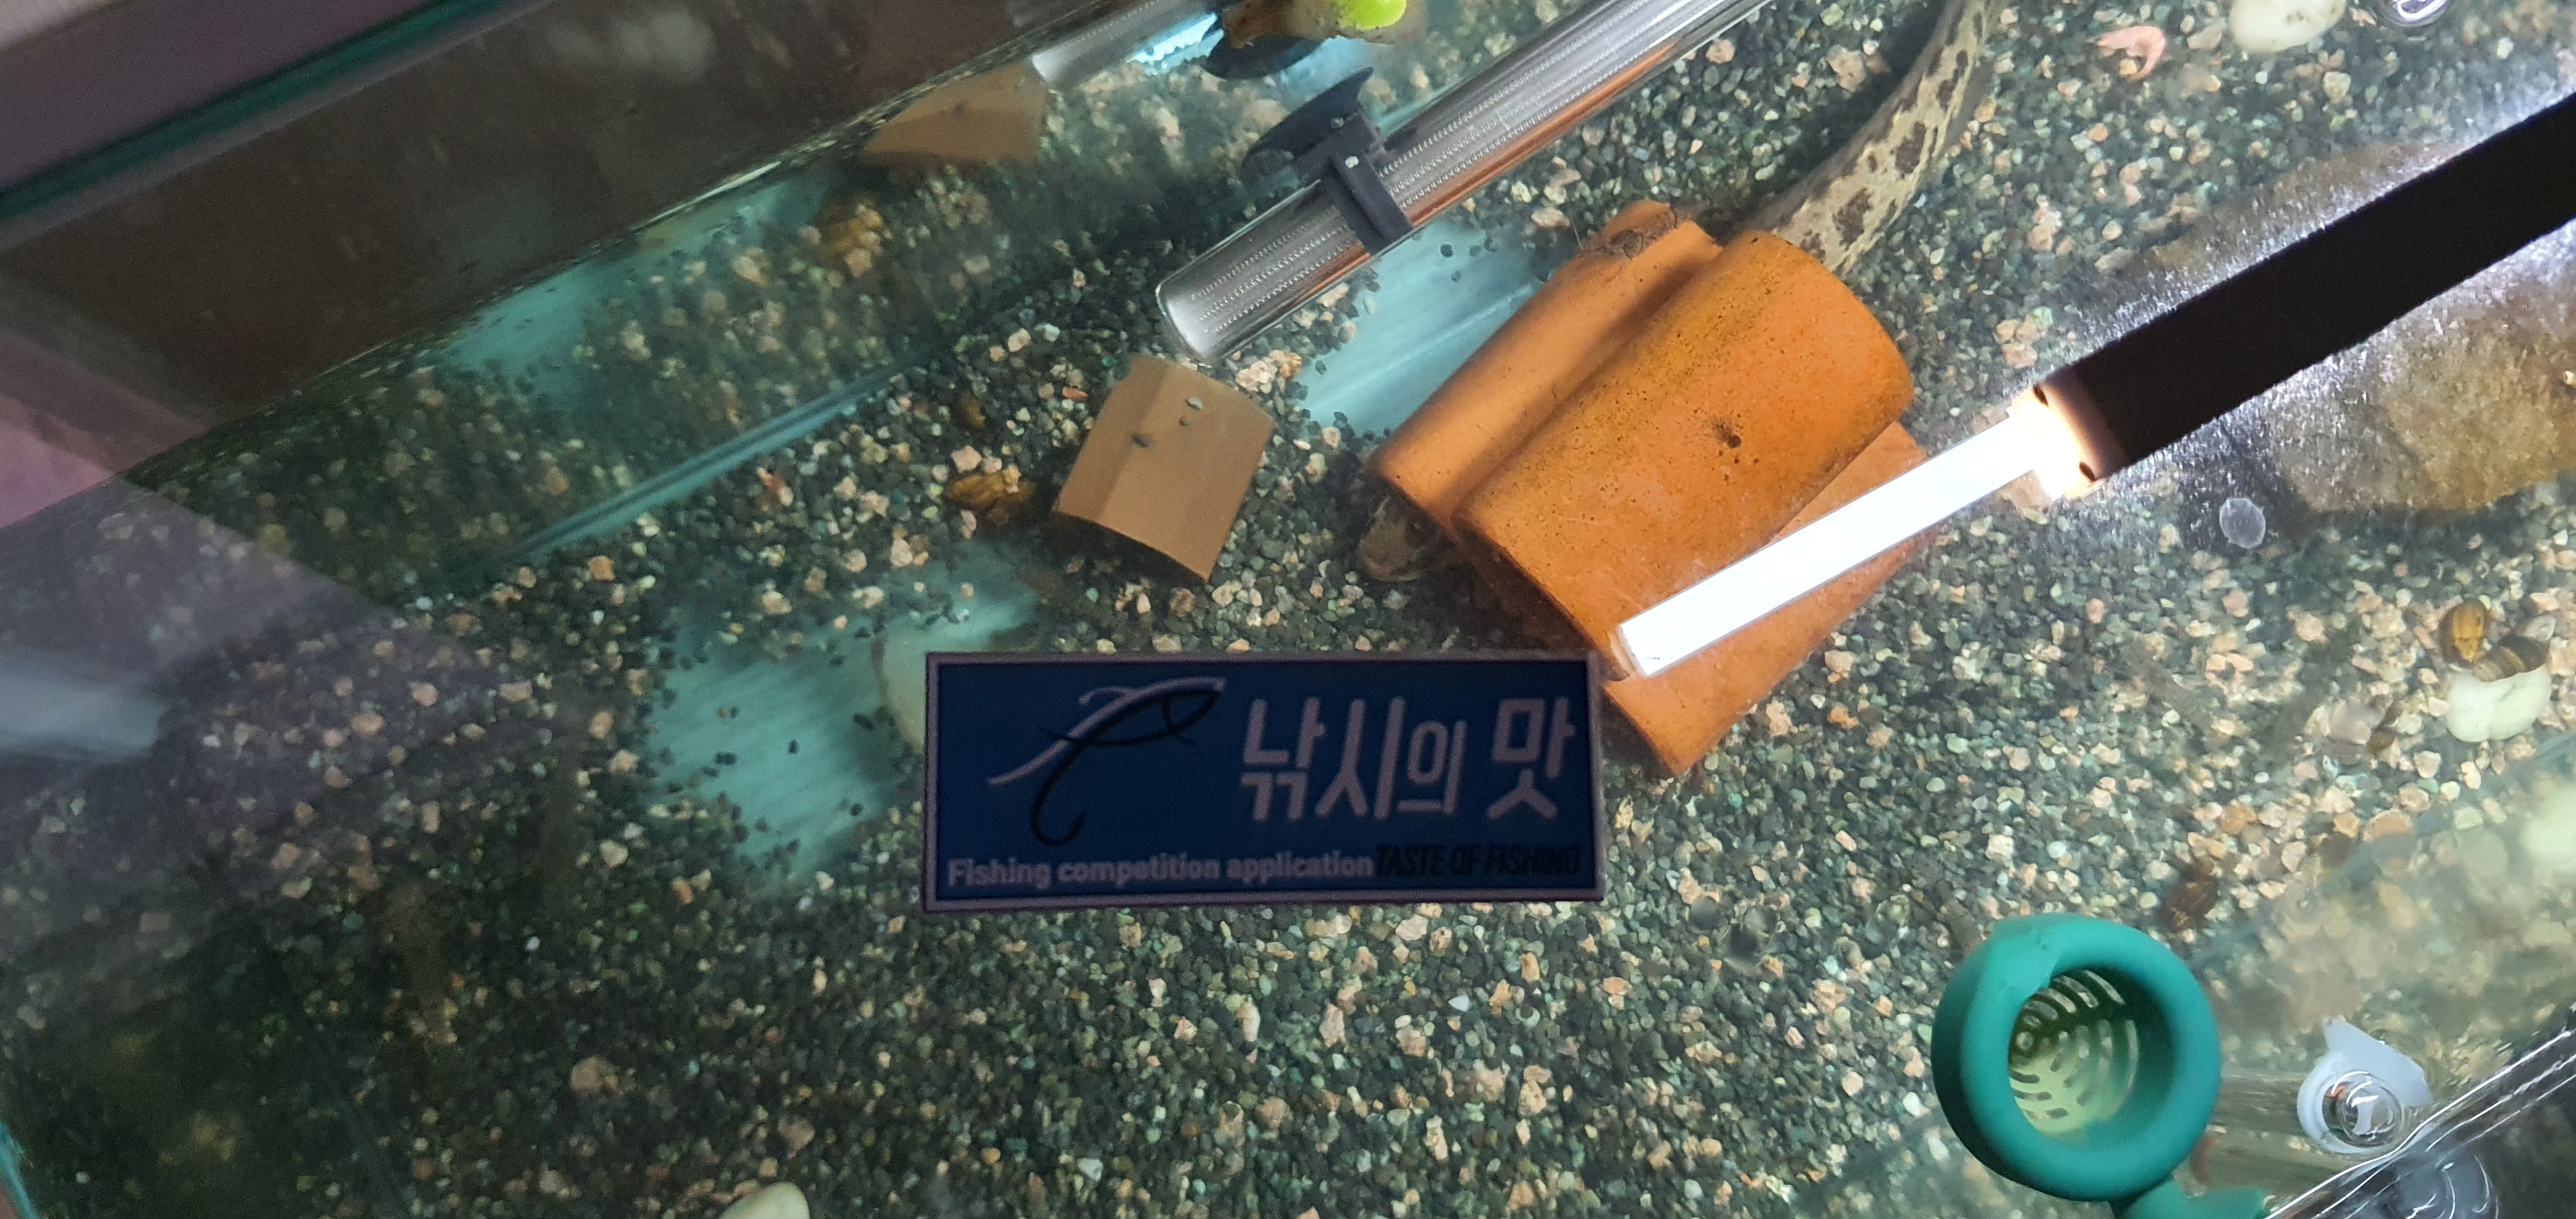tag: (930, 644, 1608, 904)
